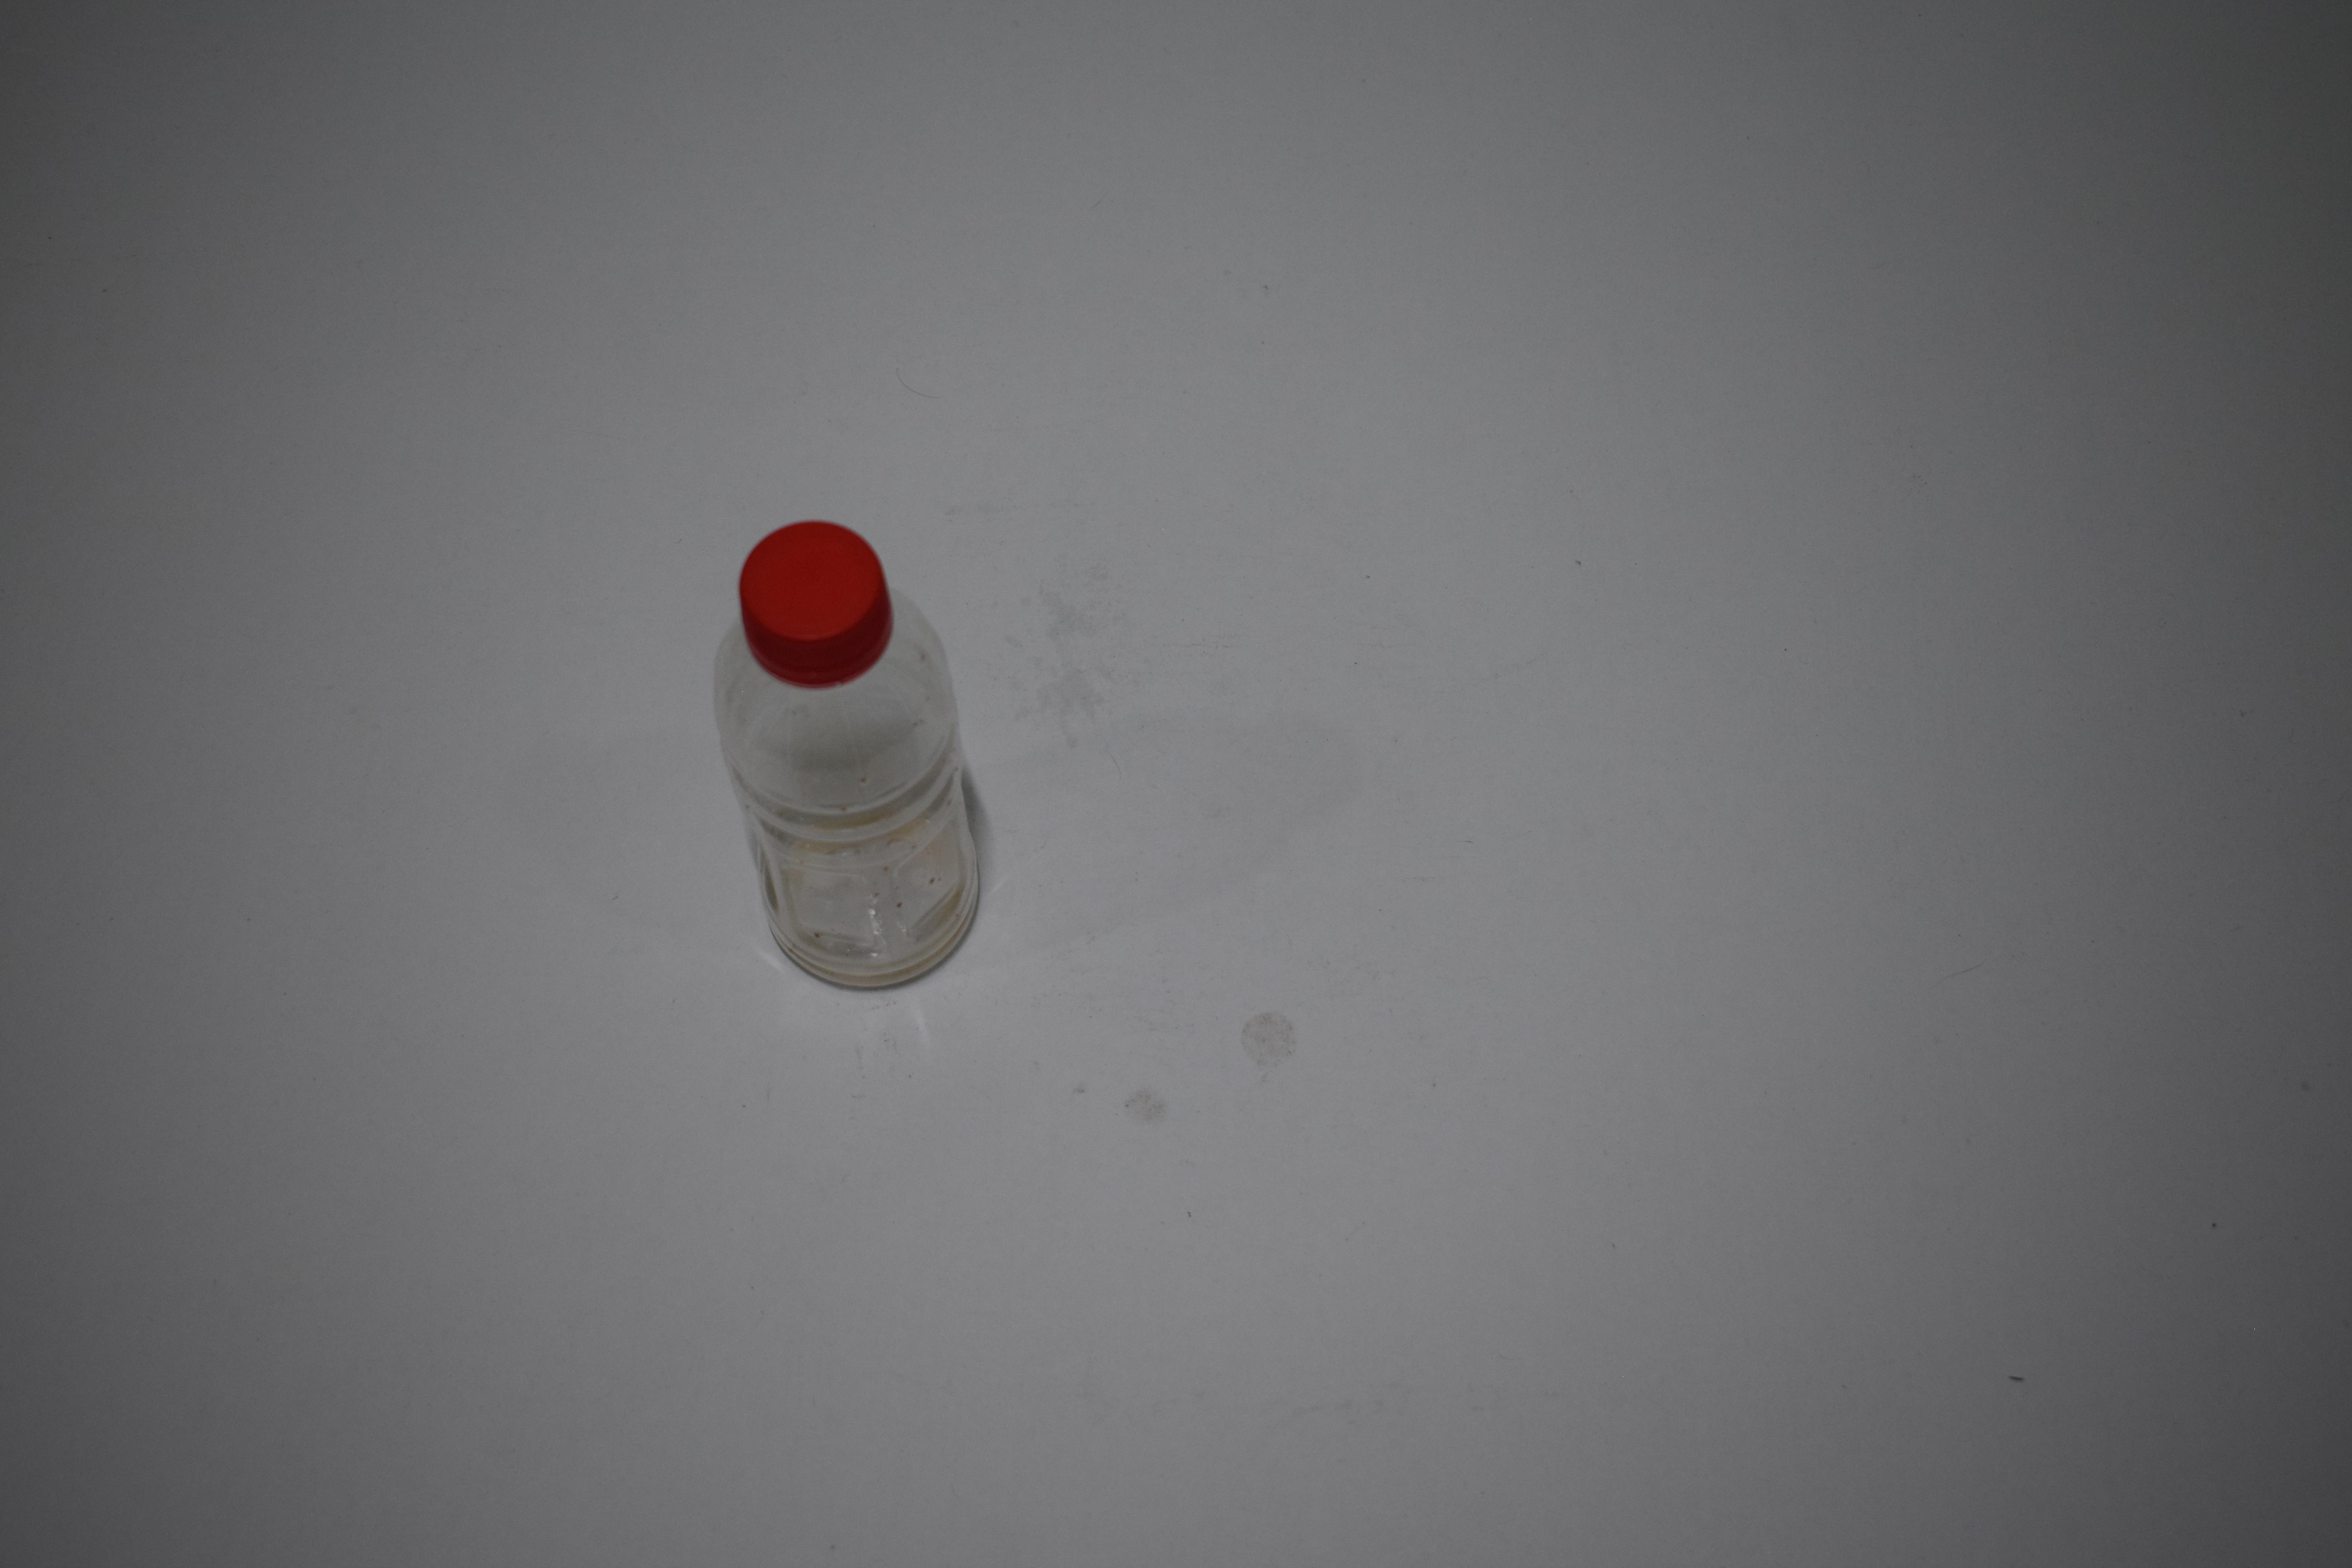bottle: (709, 514, 994, 996)
